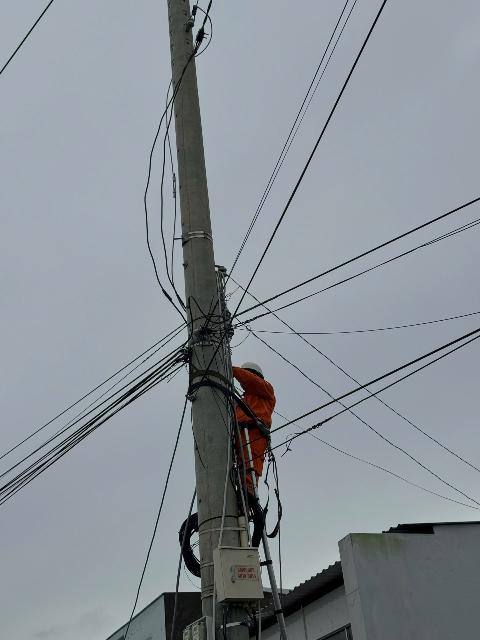harness: (220, 409, 294, 447)
helmet: (236, 355, 272, 384)
